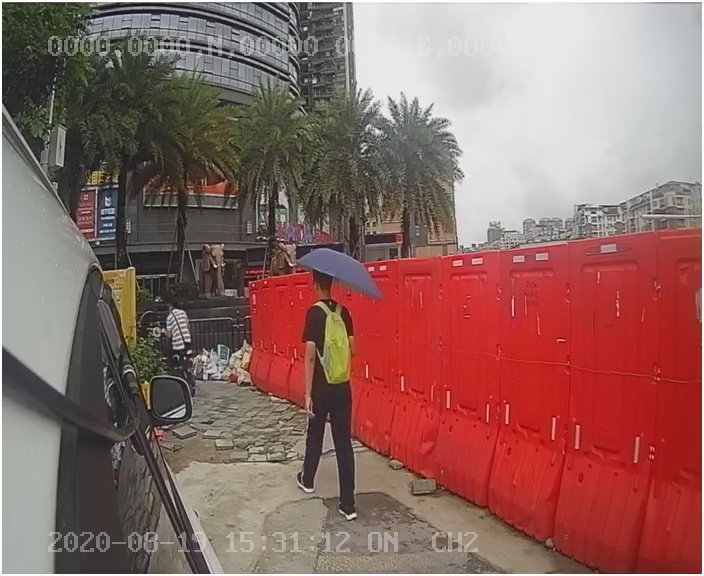person: (286, 265, 380, 524)
